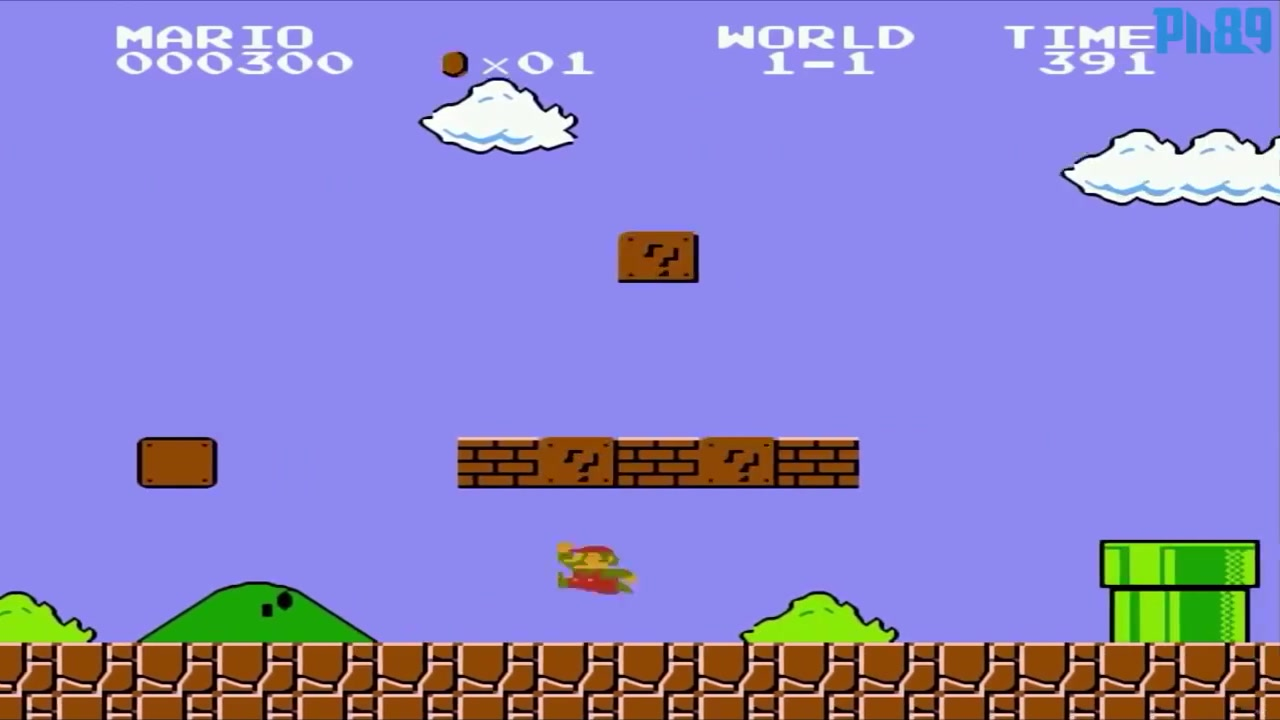mario: (541, 534, 646, 611)
